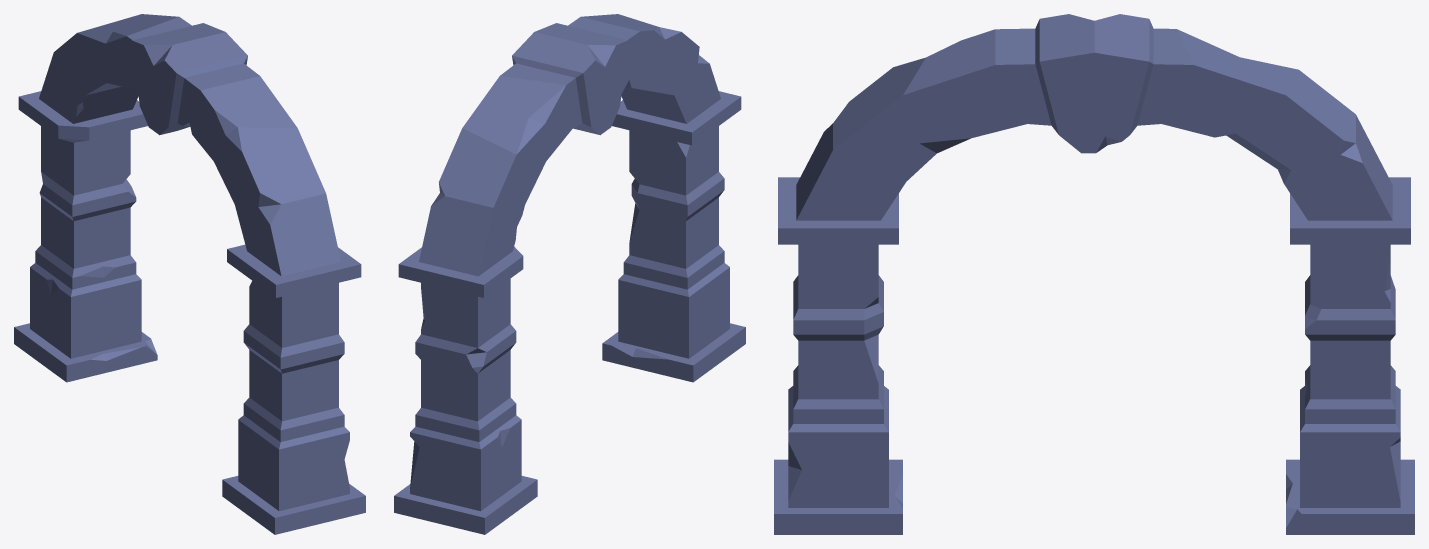
The model's file is arch_1_2.fbx.
3 views of the same model, side by side, from view 1: azimuth 30°, elevation 25°; view 2: azimuth 150°, elevation 25°; view 3: azimuth 270°, elevation 25° (orthographic). The views are drawn at different scales.
Visible parts, largest first — view 1: arch_1_2; view 2: arch_1_2; view 3: arch_1_2.
Boxes of the visible parts, left/top/right/bottom form: arch_1_2: left=14, top=14, right=365, bottom=534; arch_1_2: left=394, top=14, right=745, bottom=534; arch_1_2: left=774, top=14, right=1414, bottom=534.
Bounding box in the file's own units: 2.18 × 8.89 × 10.84.
